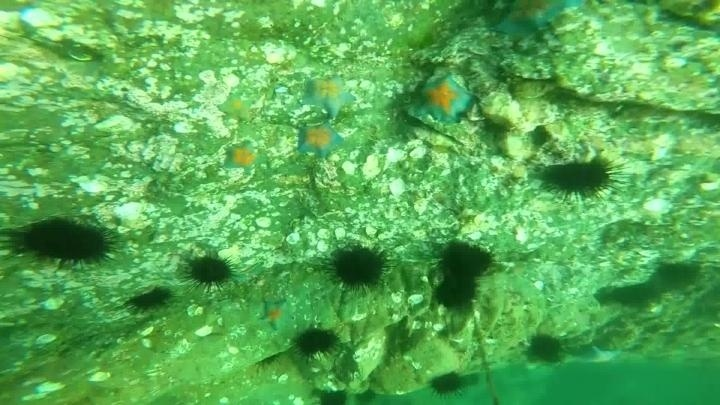echinus: (11, 216, 119, 269), (535, 153, 624, 203), (326, 242, 390, 292), (432, 239, 489, 281), (182, 251, 236, 291), (432, 270, 480, 312), (596, 279, 660, 310), (291, 325, 341, 360), (654, 257, 703, 292), (125, 283, 174, 314), (524, 331, 566, 366), (427, 369, 468, 399), (312, 385, 350, 404)
starfish: (411, 71, 477, 126), (490, 1, 572, 42), (300, 72, 357, 119), (295, 121, 345, 161), (221, 141, 264, 175), (257, 295, 295, 333), (216, 91, 257, 124)
